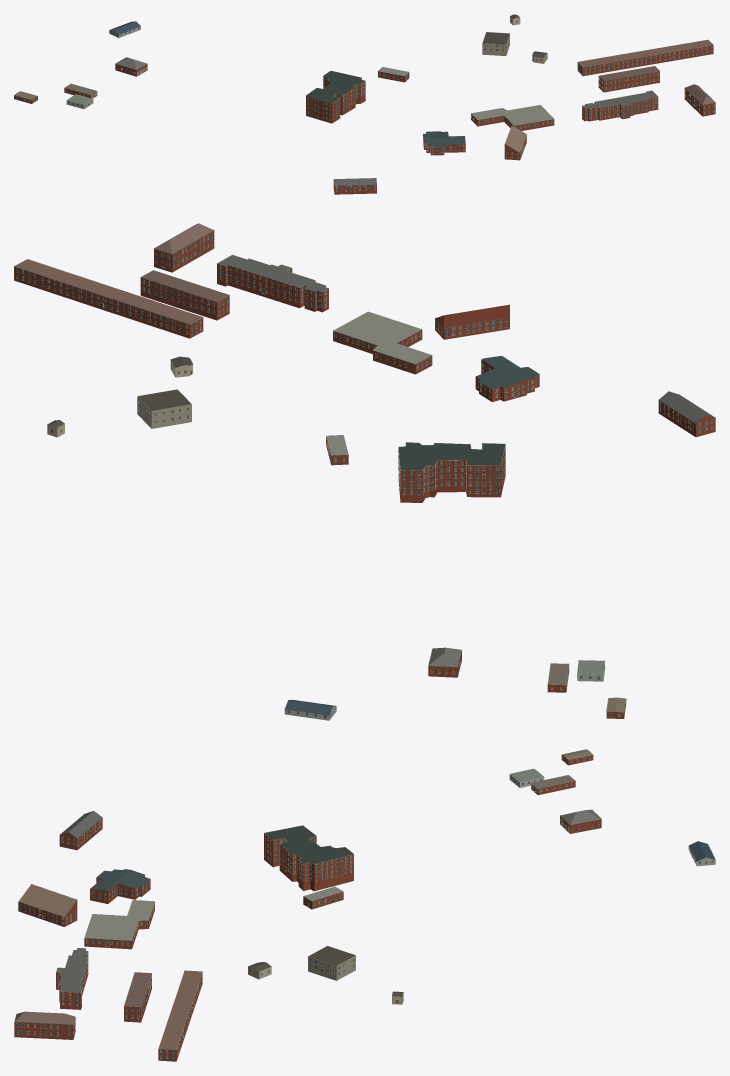
3 views of the same model, one above another, from view 1: azimuth 30°, elevation 25°; view 2: azimuth 150°, elevation 25°; view 3: azimuth 270°, elevation 25° (orthographic). The views are drawn at different scales.
Parts seen in each view (by area): view 1: -5_-1_188826782_0, -5_-1_-7381159801_17; view 2: -5_-1_188826782_0, -5_-1_-7381159801_17; view 3: -5_-1_188826782_0, -5_-1_-7381159801_17.
Part boxes in pixels (bbox=[...]): -5_-1_188826782_0: bbox=[14, 14, 715, 194]; -5_-1_-7381159801_17: bbox=[482, 35, 509, 55]; -5_-1_188826782_0: bbox=[14, 223, 715, 718]; -5_-1_-7381159801_17: bbox=[137, 397, 191, 428]; -5_-1_188826782_0: bbox=[14, 749, 715, 1061]; -5_-1_-7381159801_17: bbox=[308, 955, 355, 980].
Bounding box in the file's own units: 530 × 40.36 × 449.
